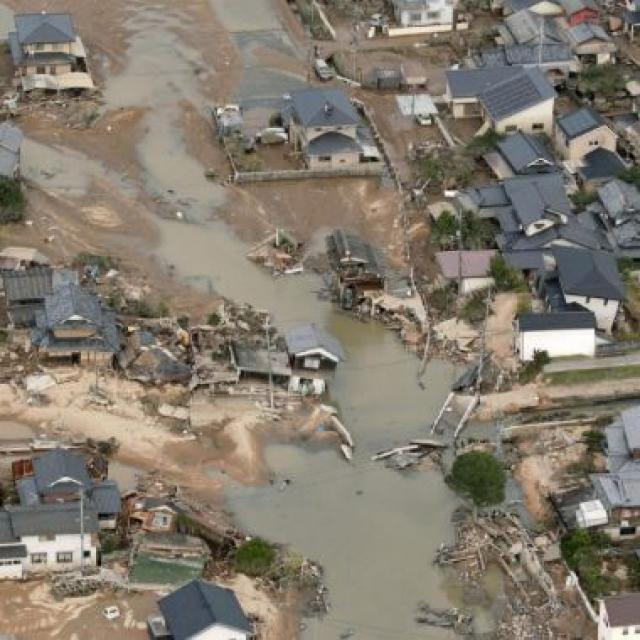flood: (108, 30, 460, 640), (23, 140, 119, 180)
house: (0, 457, 122, 574), (442, 61, 560, 138), (10, 12, 94, 96), (280, 84, 366, 166), (40, 284, 121, 364), (156, 576, 250, 640), (554, 247, 626, 330), (595, 414, 640, 539), (518, 303, 592, 362), (481, 132, 559, 180), (559, 108, 616, 164), (284, 323, 342, 370), (436, 245, 498, 281), (596, 590, 638, 640), (572, 23, 614, 59)
